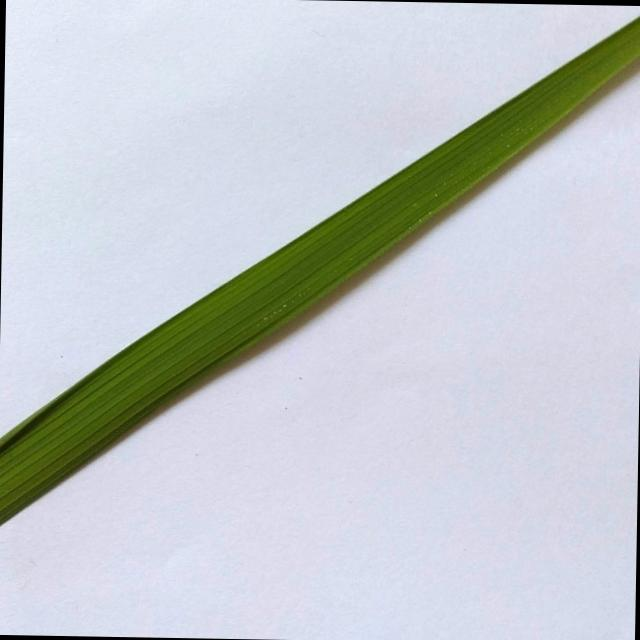Rice_Healthy: (0, 16, 640, 522)
